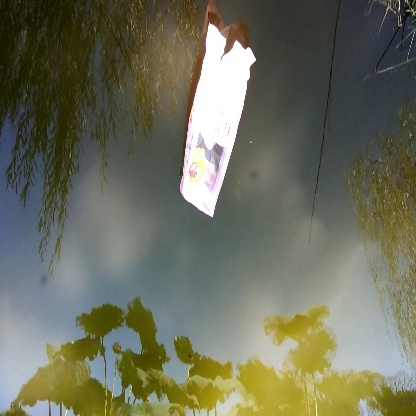plastic-bag: (177, 22, 255, 225)
